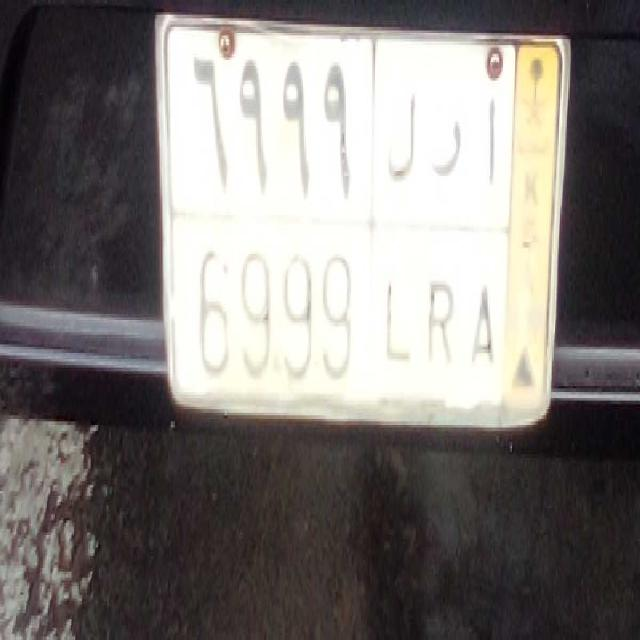license_plate: (166, 212, 508, 415)
